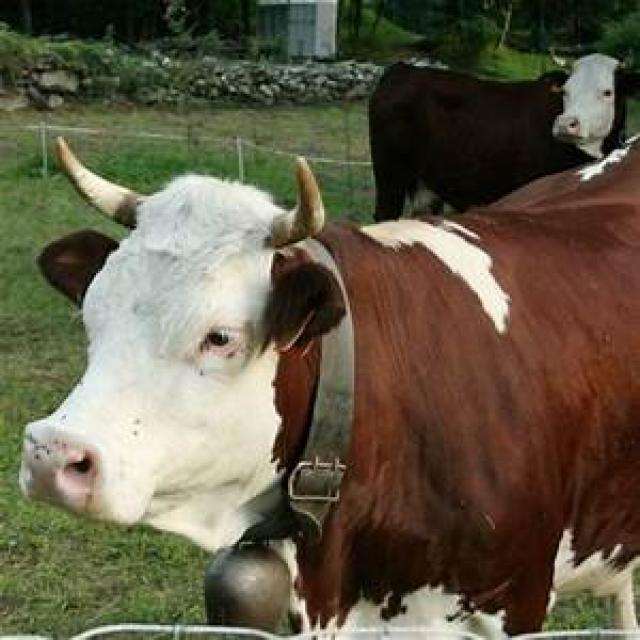animal: (15, 130, 638, 638), (367, 49, 638, 222)
